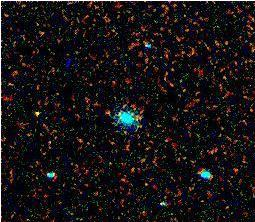star: (19, 97, 49, 127)
